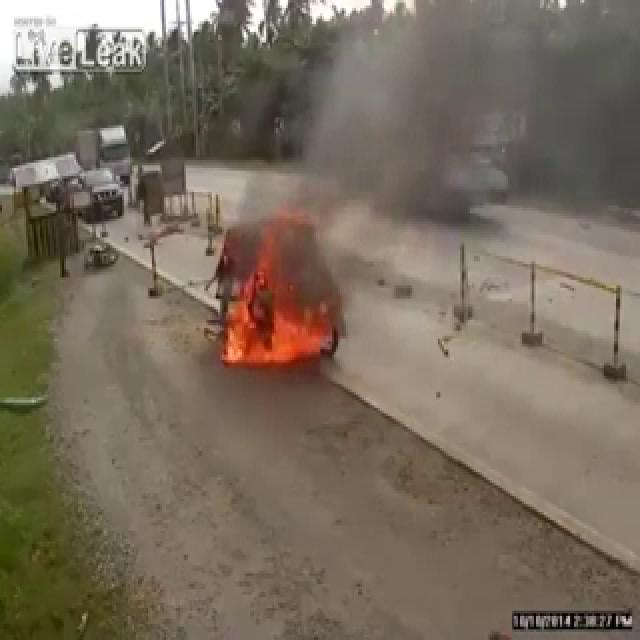explosion: (111, 0, 373, 522), (0, 0, 116, 16)
